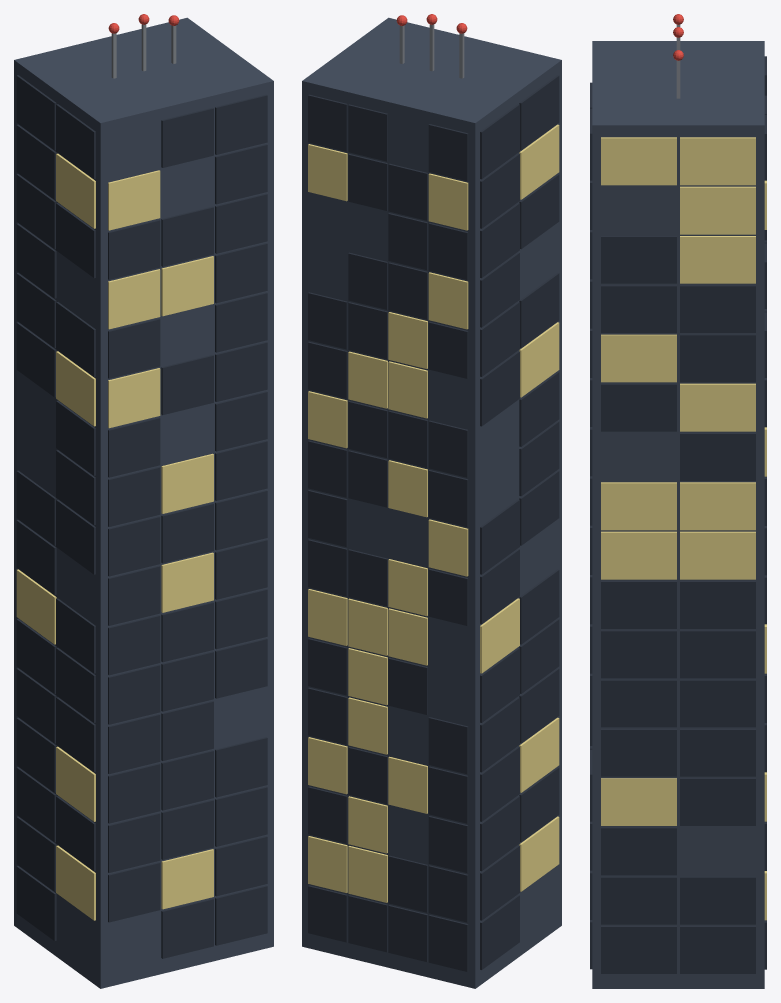
Rendered from Building_C.fbx.
3 views of the same model, side by side, from view 1: azimuth 30°, elevation 25°; view 2: azimuth 150°, elevation 25°; view 3: azimuth 270°, elevation 25° (orthographic).
Visible parts, largest first — view 1: Building_C_TripleAntenna; view 2: Building_C_TripleAntenna; view 3: Building_C_TripleAntenna.
Boxes of the visible parts, x1,y1,x2,y2 form: Building_C_TripleAntenna: (14,14,273,988); Building_C_TripleAntenna: (302,14,561,988); Building_C_TripleAntenna: (590,14,766,988).
Size of the model in its own units: 225 by 1118 by 195.
